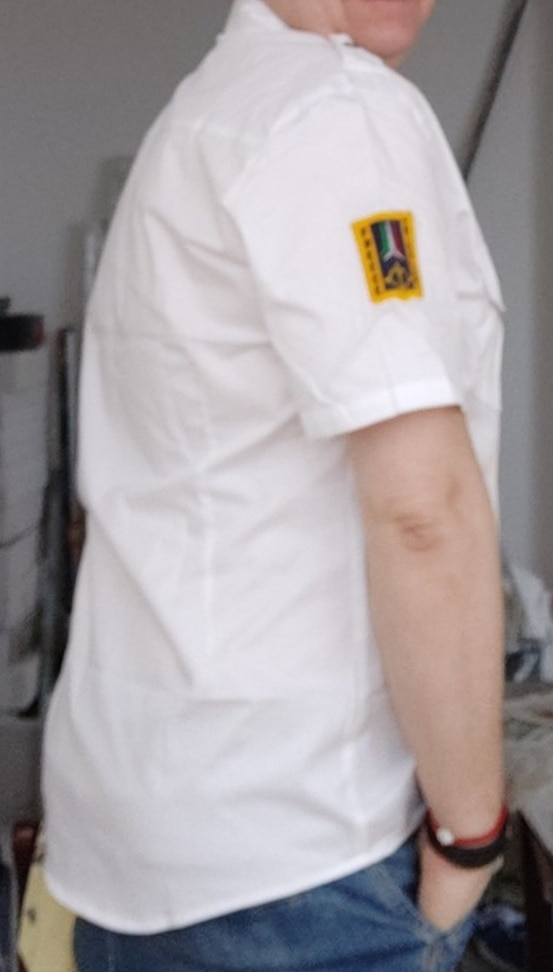shirts: (33, 34, 507, 927)
